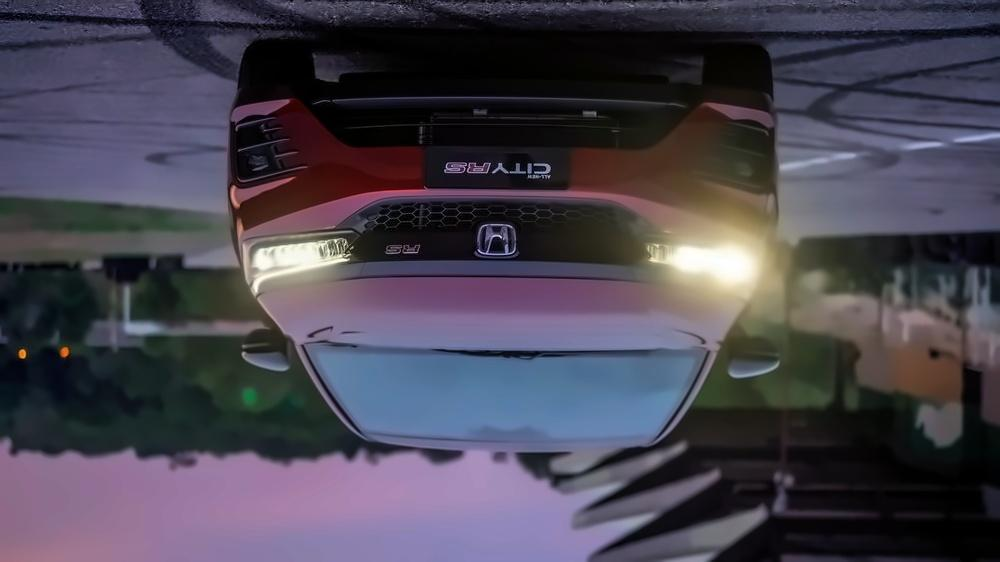Car hood: (254, 269, 742, 353)
Front bumper: (219, 72, 792, 224)
Headlight - -L-: (229, 219, 366, 293)
Headlight - -R-: (637, 219, 772, 299)
Side mirror - -L-: (232, 317, 295, 385)
Side mirror - -R-: (720, 322, 781, 389)
